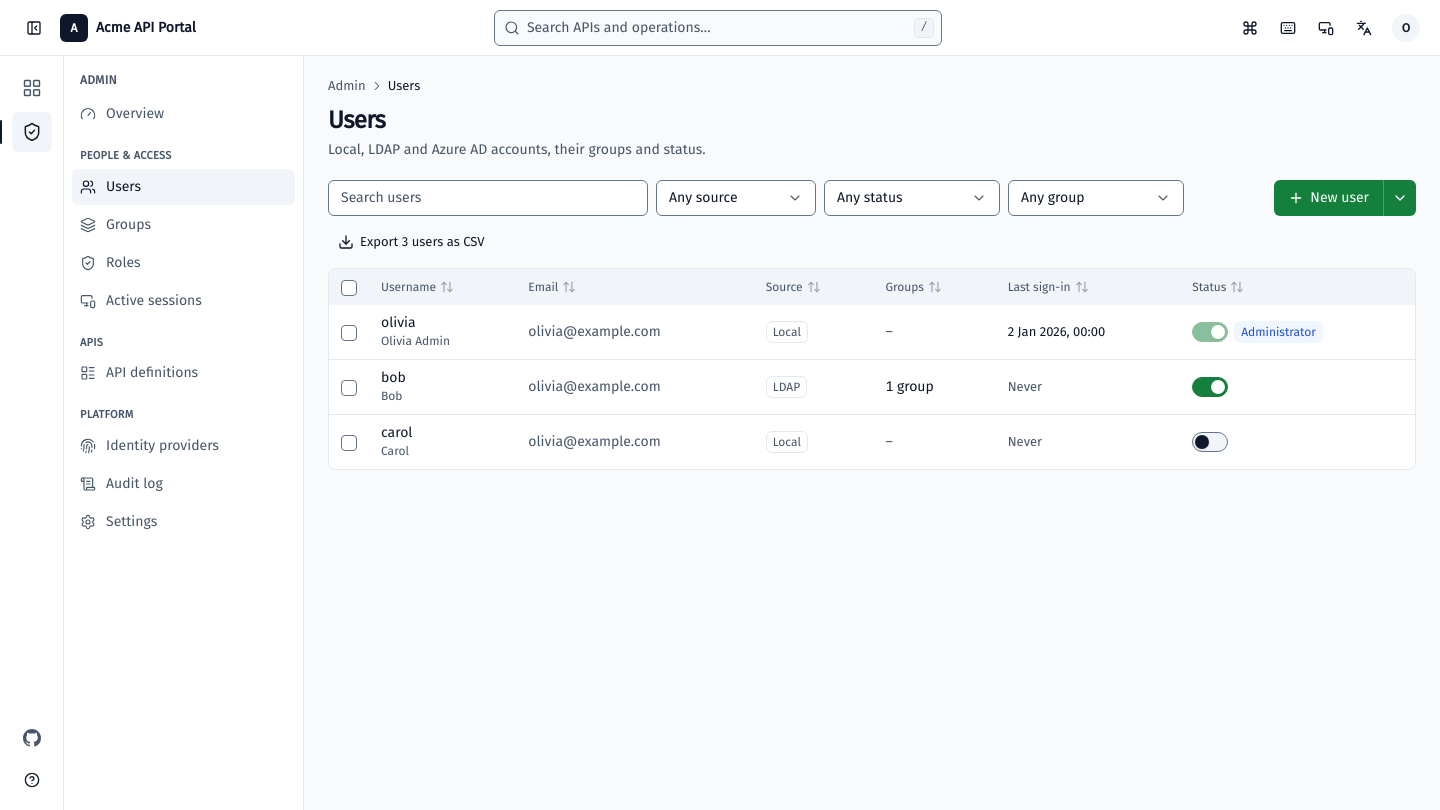
users › deactivates the selection, leaving yourself out
Expected: the button "bob Bob" is shown, x1=381 y1=368 x2=406 y2=404
Click the checkbox named "Select all rows on this page" at x=349, y=288, box x1=341 y1=280 x2=357 y2=296
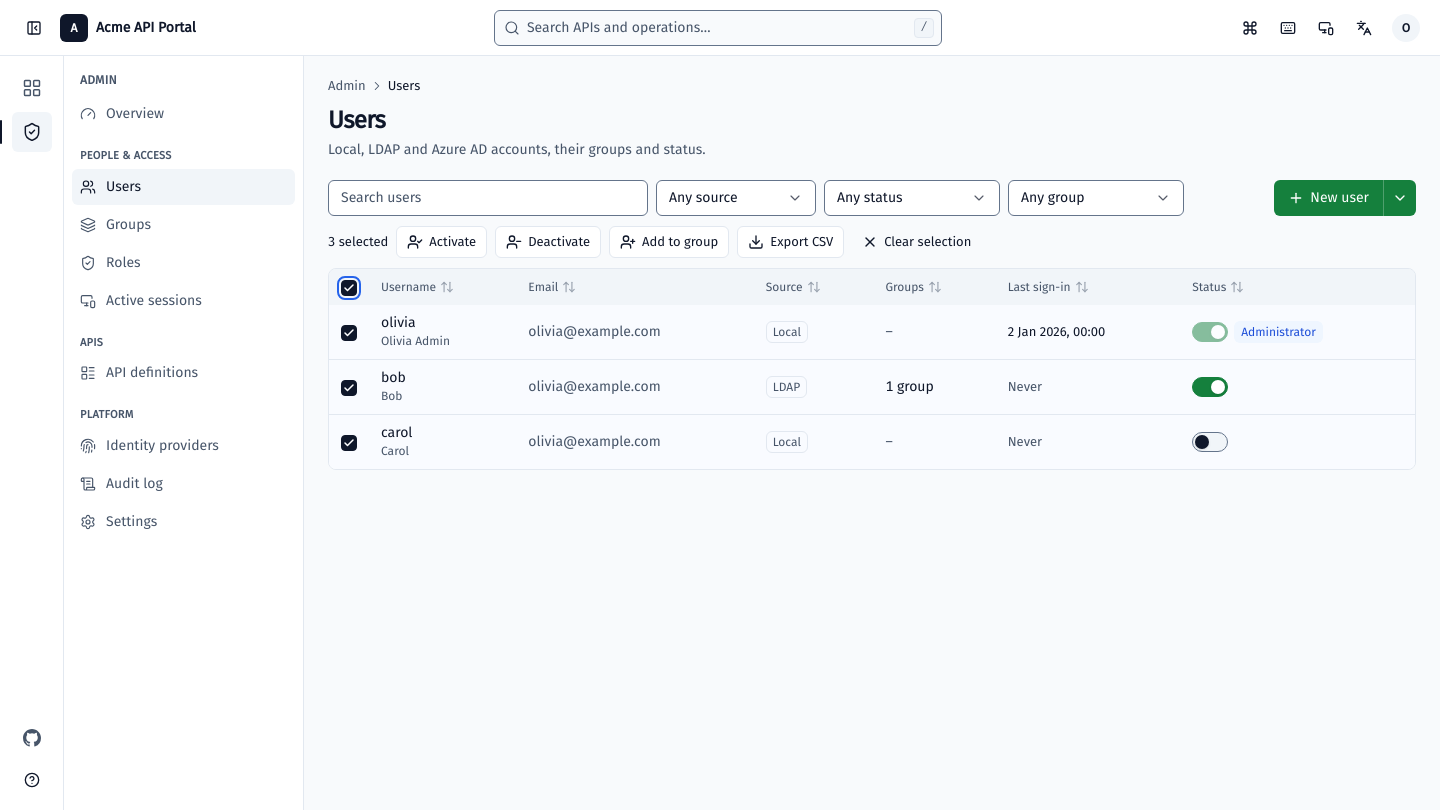
Click the button "Deactivate" at x=548, y=242, box x1=495 y1=226 x2=601 y2=258
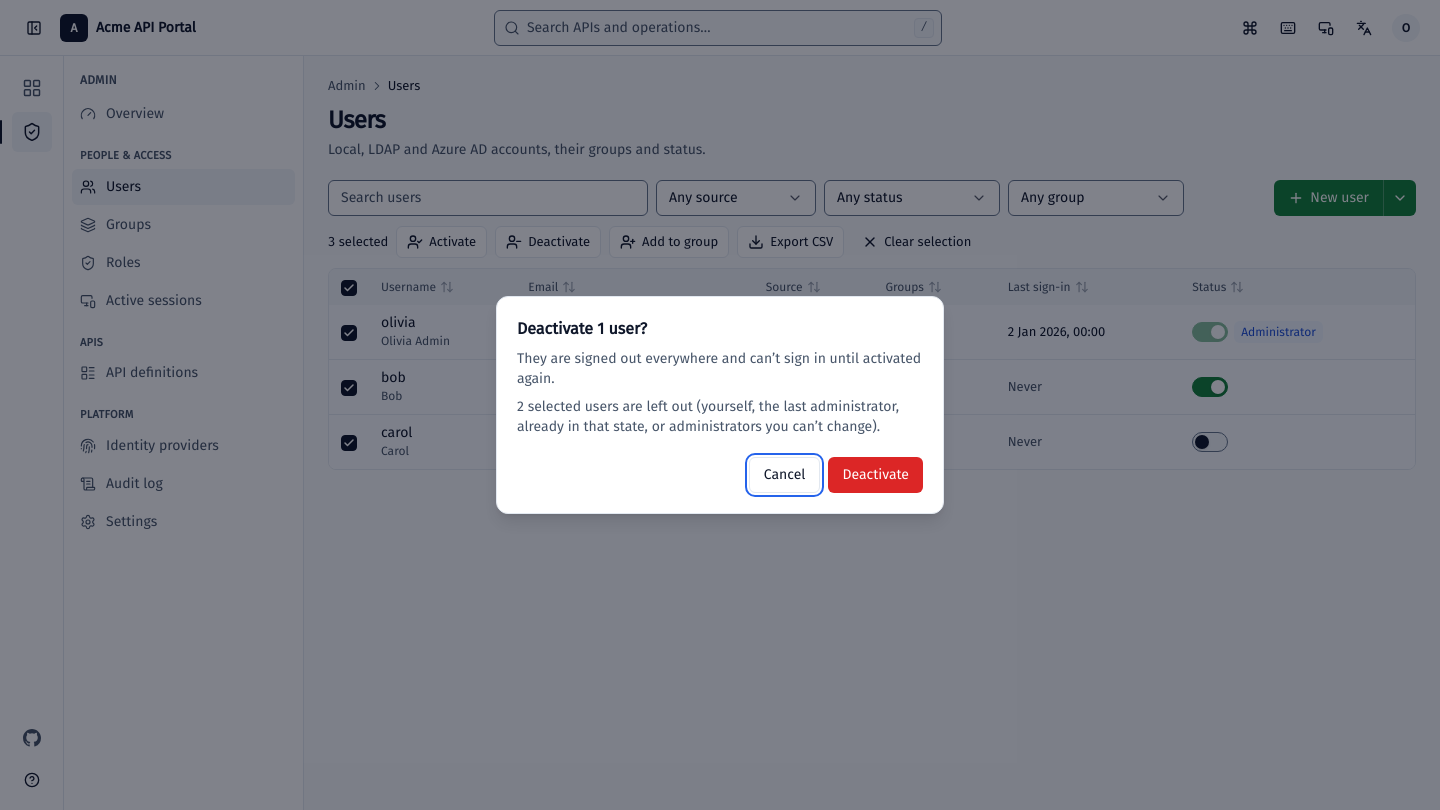
Now the dialog "Deactivate 1 user?" shows "2 selected users are left out", box x1=517 y1=398 x2=899 y2=435
Click the button "Deactivate" at x=876, y=475, box x1=828 y1=457 x2=923 y2=493
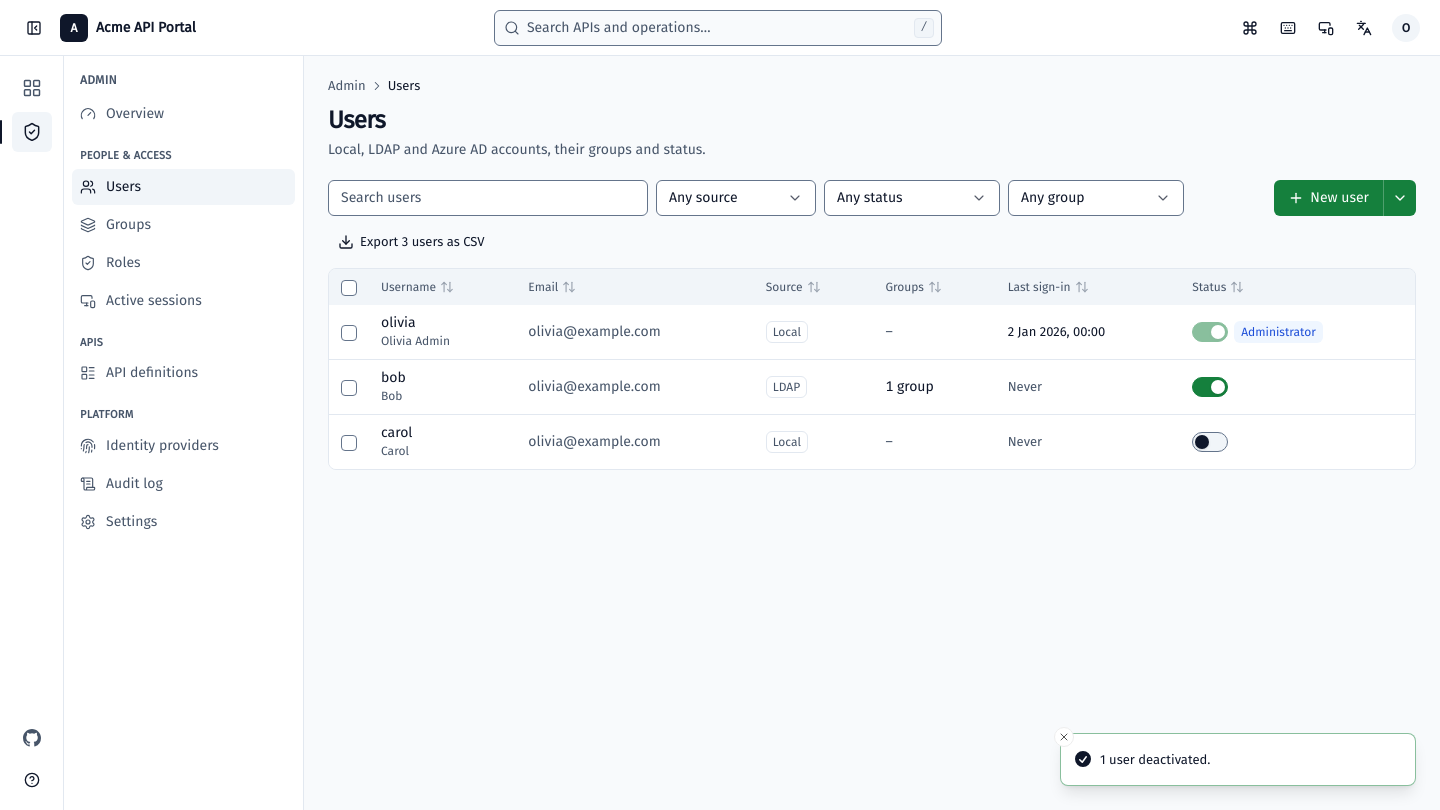
Now the text "1 user deactivated." is shown, box x1=1100 y1=750 x2=1210 y2=769
